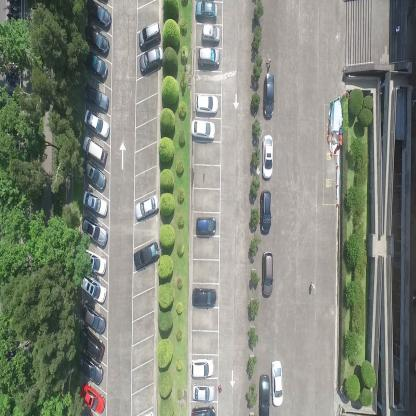car: (77, 326, 106, 365), (79, 300, 106, 336), (80, 156, 107, 192), (76, 352, 104, 386), (79, 272, 107, 305), (82, 24, 110, 57), (81, 216, 108, 249), (133, 238, 159, 272), (81, 187, 109, 217), (139, 43, 164, 76), (79, 384, 106, 414), (80, 246, 107, 276), (83, 108, 110, 138), (82, 82, 109, 111), (81, 136, 107, 166), (83, 50, 108, 81), (134, 192, 160, 221), (86, 0, 111, 29), (138, 20, 162, 50), (259, 188, 273, 234), (261, 250, 274, 298), (191, 286, 218, 309), (271, 359, 283, 409), (190, 356, 216, 379), (261, 132, 273, 180), (190, 119, 216, 141), (263, 74, 275, 120), (197, 46, 220, 70), (195, 217, 218, 239), (190, 384, 218, 402), (194, 93, 218, 114), (258, 374, 270, 415), (195, 0, 218, 21), (200, 22, 221, 43), (191, 402, 216, 415)
